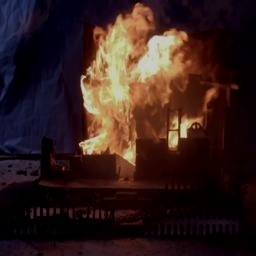fire: (65, 8, 231, 179)
